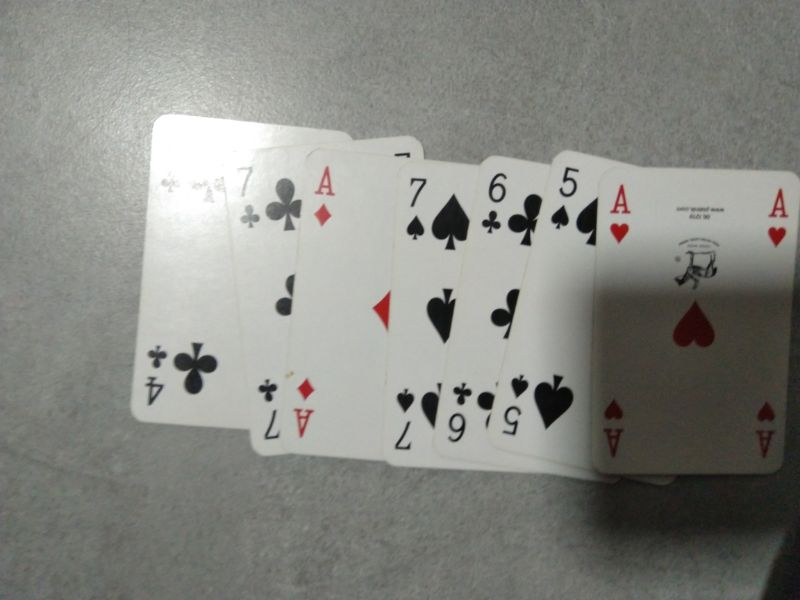4c: (141, 342, 172, 410)
5s: (548, 164, 585, 232), (499, 370, 532, 439)
6c: (482, 169, 514, 235), (445, 376, 475, 446)
7c: (234, 160, 264, 236), (254, 376, 285, 445)
7s: (404, 172, 432, 243), (393, 383, 419, 455)
Ad: (311, 161, 340, 230), (290, 375, 319, 440)
Ah: (596, 393, 629, 463), (764, 184, 790, 253), (608, 178, 633, 248), (751, 397, 777, 463)
